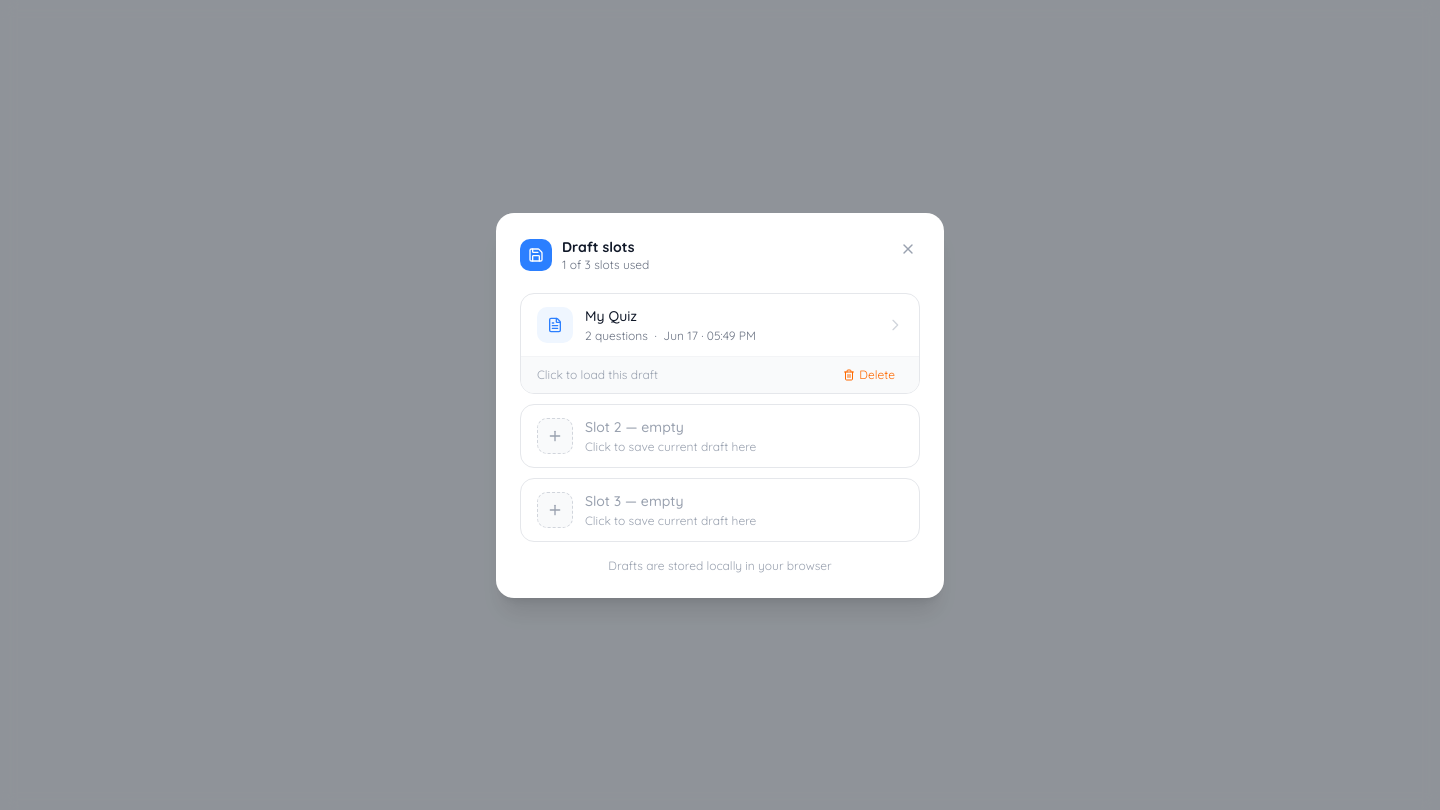
Test: DraftPopup UI behaviour › FE-67: deletes a draft when the Delete button is clicked
The image size is (1440, 810).
Step 1. Click the button with aria-label "delete slot 1 draft" → (869, 374), box [835,362,903,386]
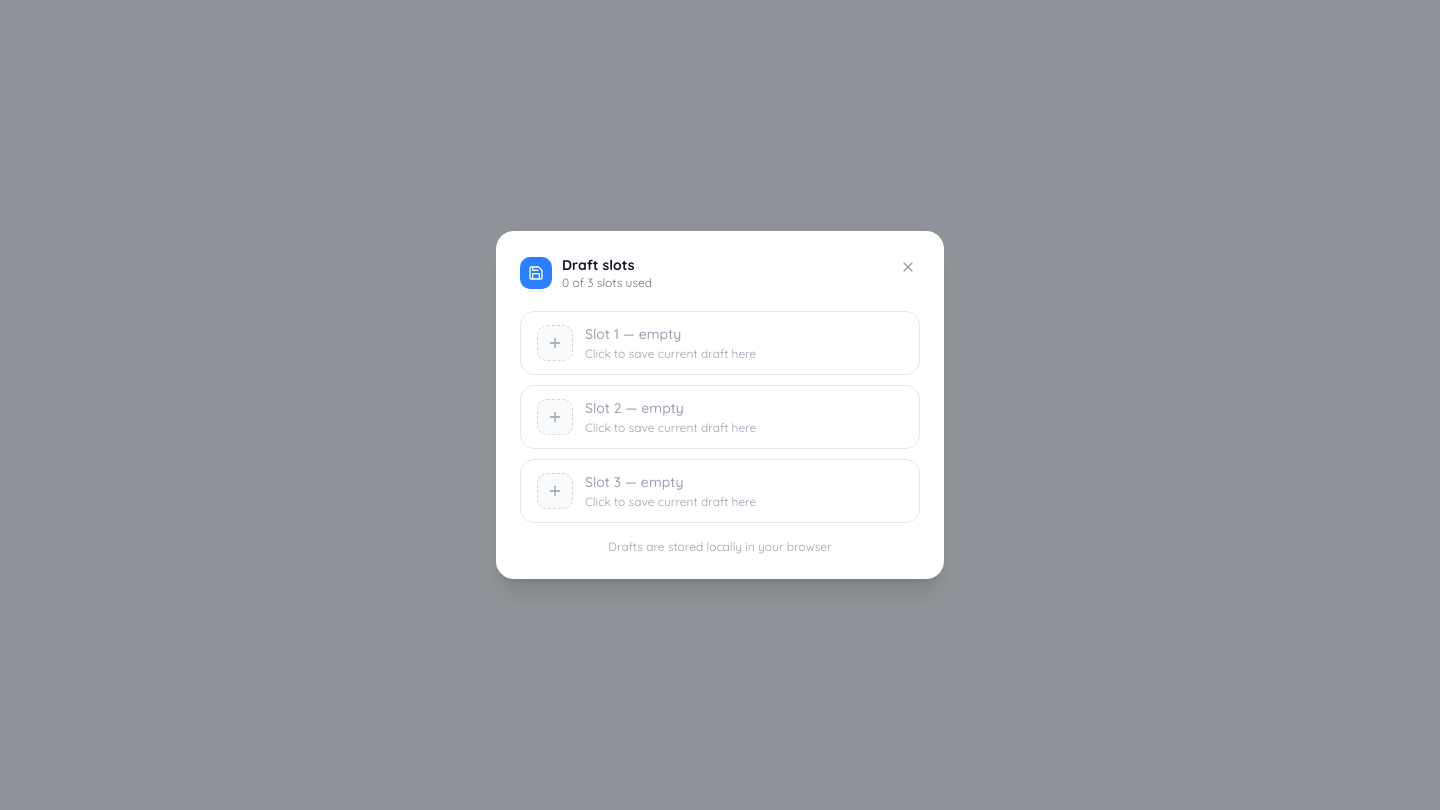
Now the text "0 of 3 slots used" is shown, box [562,275,652,291]
